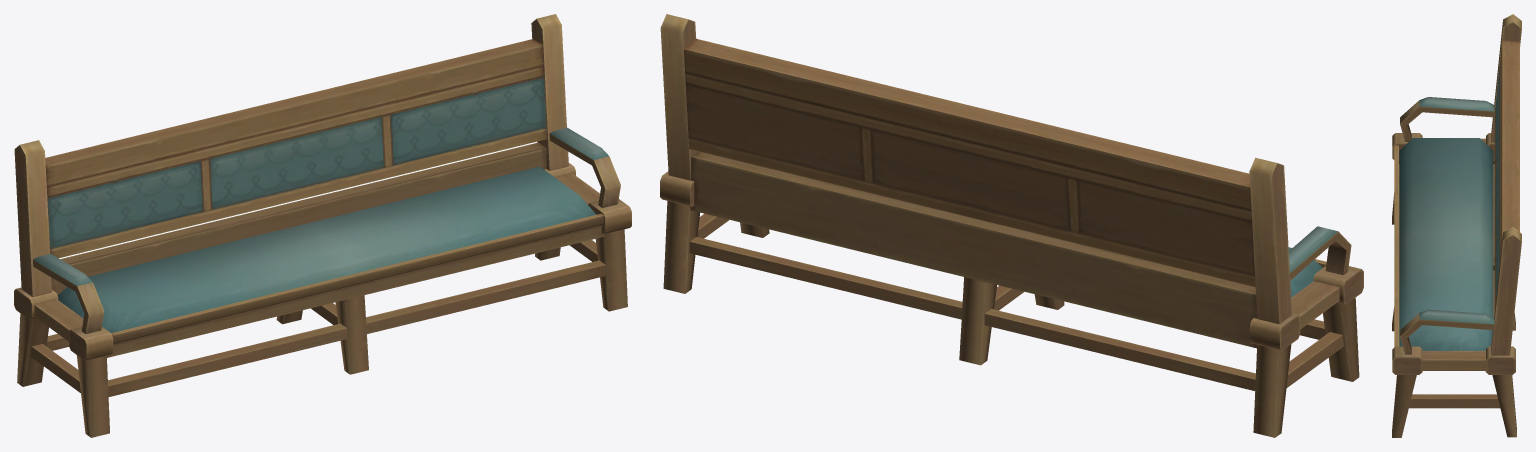
The model's file is Homeworld_Exterior_Fd_Chair_Prop_LongYi_01_Vo.fbx.
3 renders of one model, left to right at view 1: azimuth 30°, elevation 25°; view 2: azimuth 150°, elevation 25°; view 3: azimuth 270°, elevation 25°, orthographic. The views are drawn at different scales.
Visible parts, largest first — view 1: Area_Fd_Prop_FDC_Chair_02_Vo; view 2: Area_Fd_Prop_FDC_Chair_02_Vo; view 3: Area_Fd_Prop_FDC_Chair_02_Vo.
Part boxes in pixels (x1,y1,x2,y2): Area_Fd_Prop_FDC_Chair_02_Vo: (14,14,631,437); Area_Fd_Prop_FDC_Chair_02_Vo: (660,14,1363,437); Area_Fd_Prop_FDC_Chair_02_Vo: (1392,14,1521,437).
Bounding box in the file's own units: 2.62 × 1.11 × 0.6413.
Materials: 1 (1 with a texture image).
